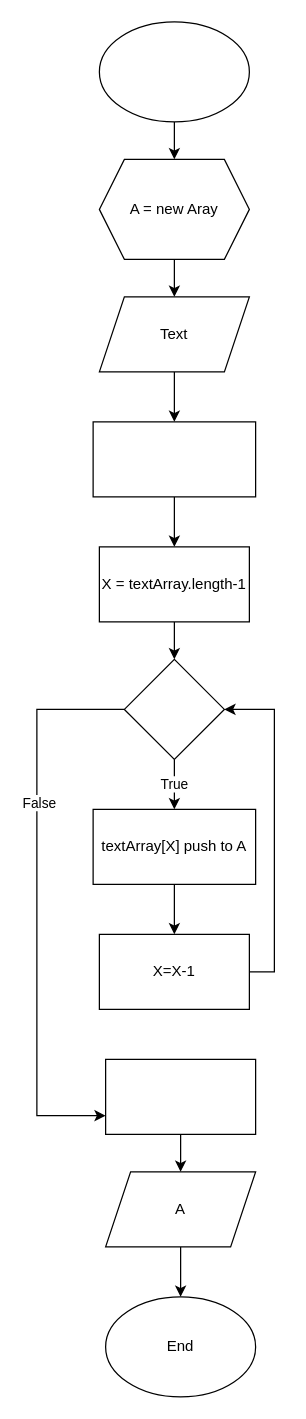
Some shapes in this 306 by 1419 pixel diagram are drawn without their labels. The shapes that lost their labels are listed below. From the top down, each one's centre as x and y in pixels, then its label:
the point at 173,71: Star
the point at 174,459: textArray = Convert String to Array split(" ")
the point at 173,708: X>=0
the point at 180,1096: Convert A to string with join(" ")
